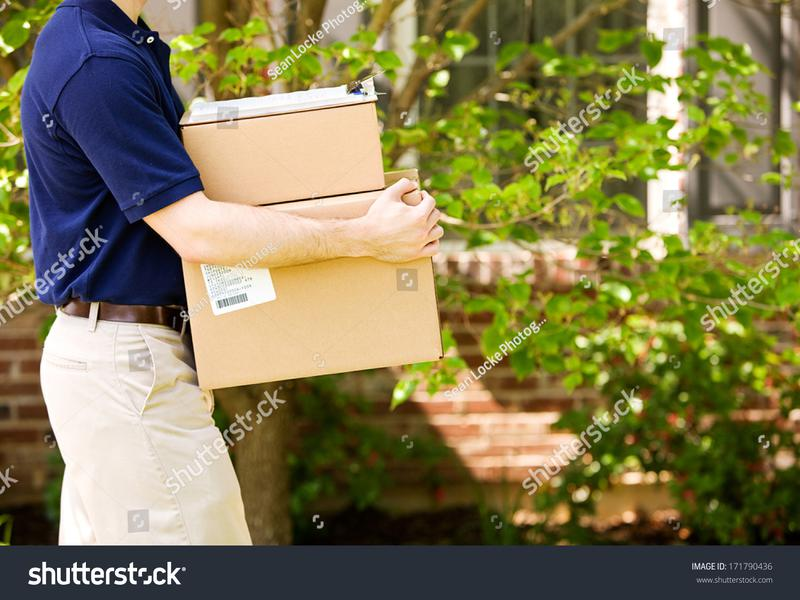package: (181, 267, 451, 394), (174, 104, 390, 212)
